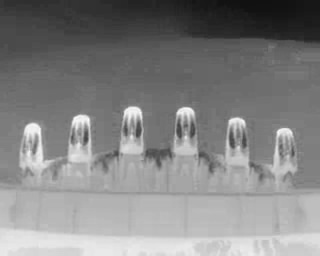claw: (67, 114, 95, 166), (172, 105, 199, 157), (224, 116, 250, 167), (120, 105, 145, 157), (19, 122, 44, 171), (272, 126, 297, 173)
